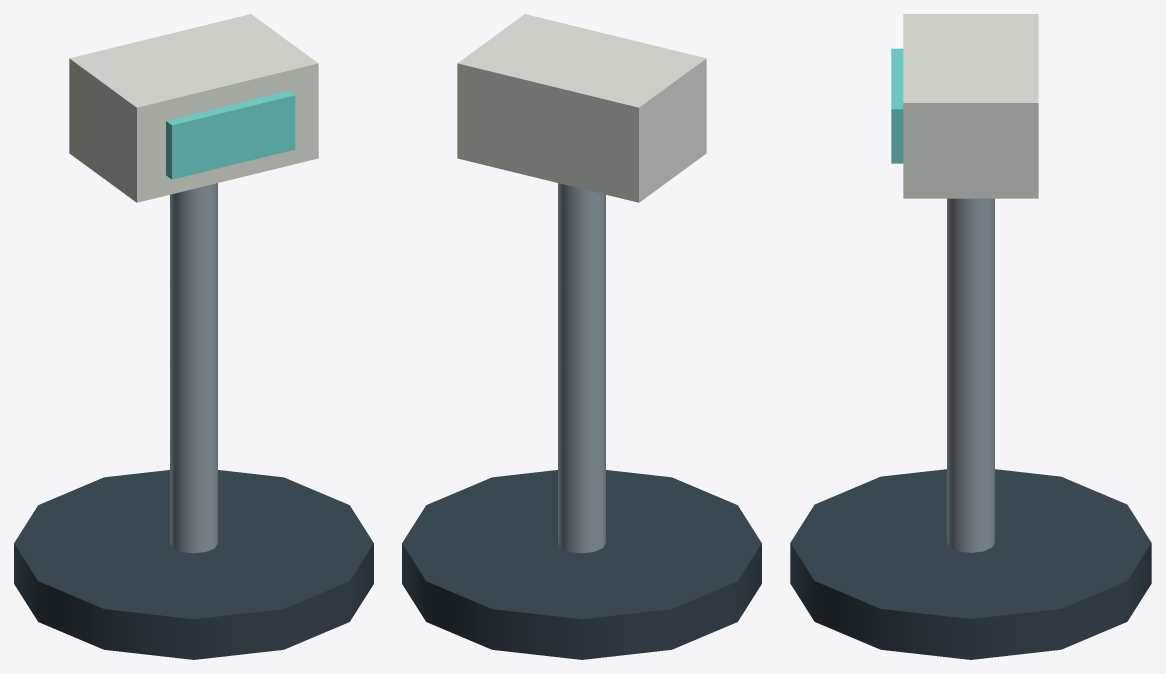
File: observation_station.glb
The picture shows the model from 3 angles, left to right: view 1: azimuth 30°, elevation 25°; view 2: azimuth 150°, elevation 25°; view 3: azimuth 270°, elevation 25°; orthographic projection.
Visible parts, largest first — view 1: Base, Housing, Post, Display; view 2: Base, Housing, Post; view 3: Base, Housing, Post, Display.
Boxes of the visible parts, bbox=[...] form: Base: bbox=[14, 470, 373, 659]; Housing: bbox=[69, 14, 318, 202]; Post: bbox=[170, 183, 217, 553]; Display: bbox=[166, 91, 295, 179]; Base: bbox=[402, 470, 761, 659]; Housing: bbox=[457, 14, 706, 202]; Post: bbox=[558, 183, 605, 553]; Base: bbox=[790, 469, 1151, 659]; Housing: bbox=[903, 14, 1038, 198]; Post: bbox=[947, 198, 994, 552]; Display: bbox=[891, 48, 903, 163].
Bounding box in the file's own units: 2.4 × 3.85 × 2.4.
